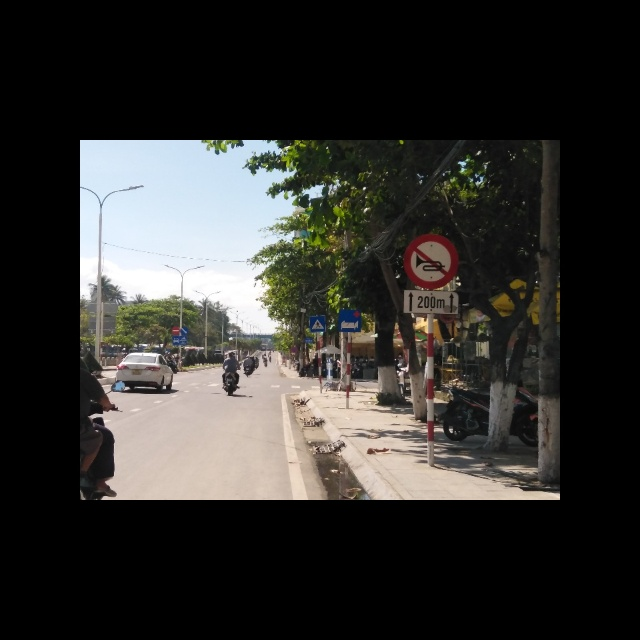Bệnh viện: (339, 309, 361, 331)
Cấm bấm còi: (404, 233, 458, 288)
Đường dành cho người đi bộ: (311, 316, 326, 332)
